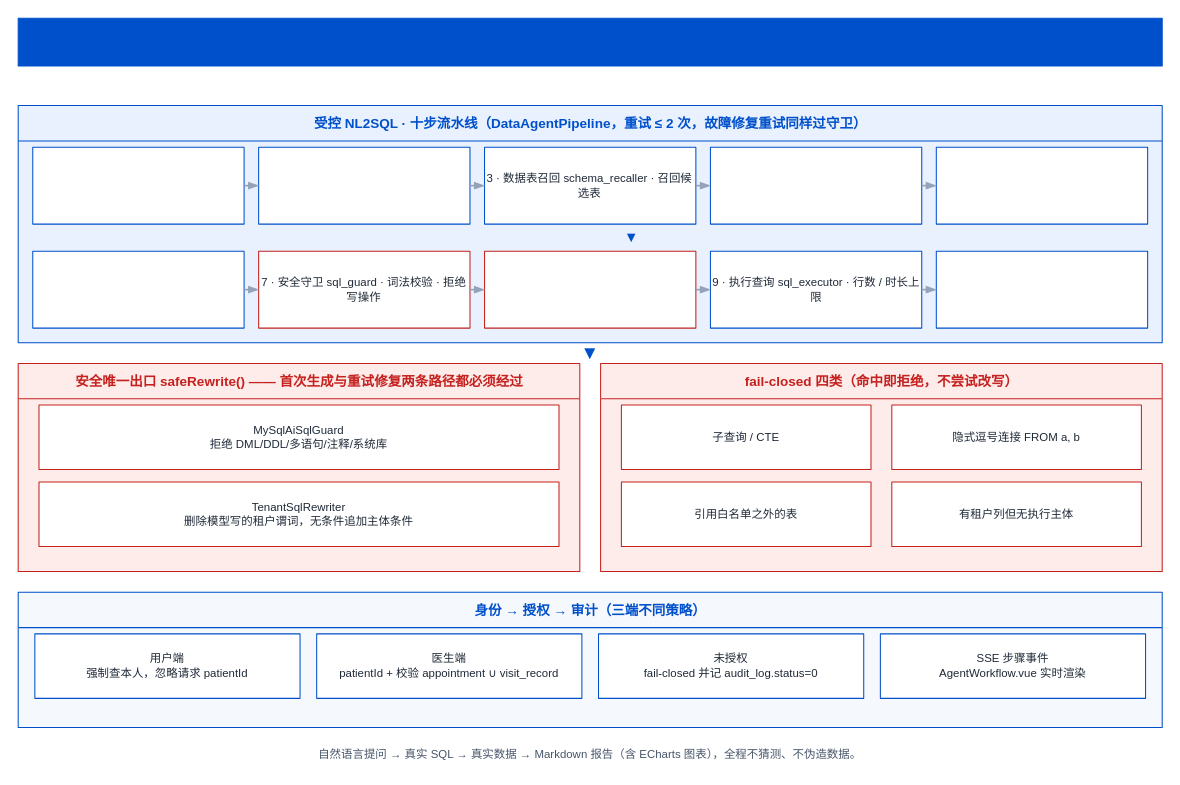
The diagram is 1180 pixels wide and 785 high, and some of its shapes have lost their labels. The centre of each missing label's shape, as x and y in pixels:
"1 · 意图识别 intent_recognizer · 闲聊 or 数据分析" goes at pixel 138 185.
"10 · 生成报告 report_generator · Markdown 分析报告" goes at pixel 1041 289.
"2 · 查询增强 query_enhancer · 结合上下文改写" goes at pixel 364 185.
"4 · 表关系分析 table_relation · 外键 / JOIN 依据" goes at pixel 815 185.
"5 · SQL 生成 sql_generator · 只读 SQL" goes at pixel 1041 185.
"6 · 语义一致性校验 semantic_checker · 语义对齐校验" goes at pixel 138 289.
"8 · 租户隔离重写 tenant_rewriter · 逐表覆盖租户条件" goes at pixel 589 289.
"数据智能体 · 受控 NL2SQL 十步流水线" goes at pixel 589 41.
